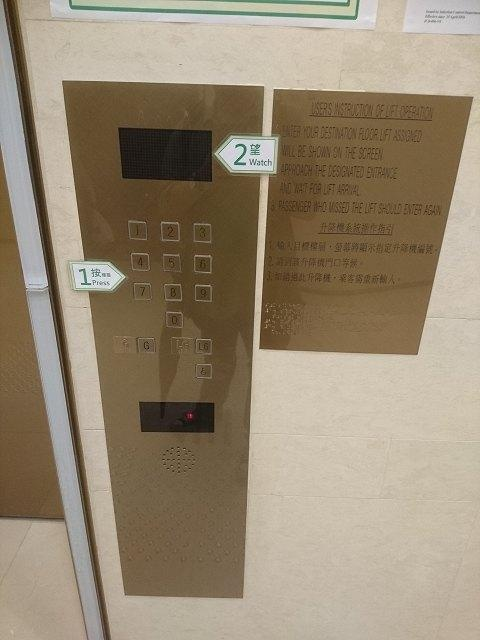0: (162, 309, 186, 331)
1: (125, 217, 150, 244)
2: (157, 219, 182, 246)
3: (189, 220, 214, 247)
4: (127, 249, 152, 276)
5: (159, 250, 184, 277)
6: (191, 252, 216, 276)
7: (130, 280, 155, 304)
8: (161, 281, 185, 304)
9: (191, 282, 215, 304)
CH: (192, 361, 215, 382)
G: (113, 333, 139, 356), (135, 335, 158, 356)
LG: (168, 336, 195, 356), (192, 336, 215, 357)
led: (114, 123, 218, 185), (136, 398, 220, 436)
